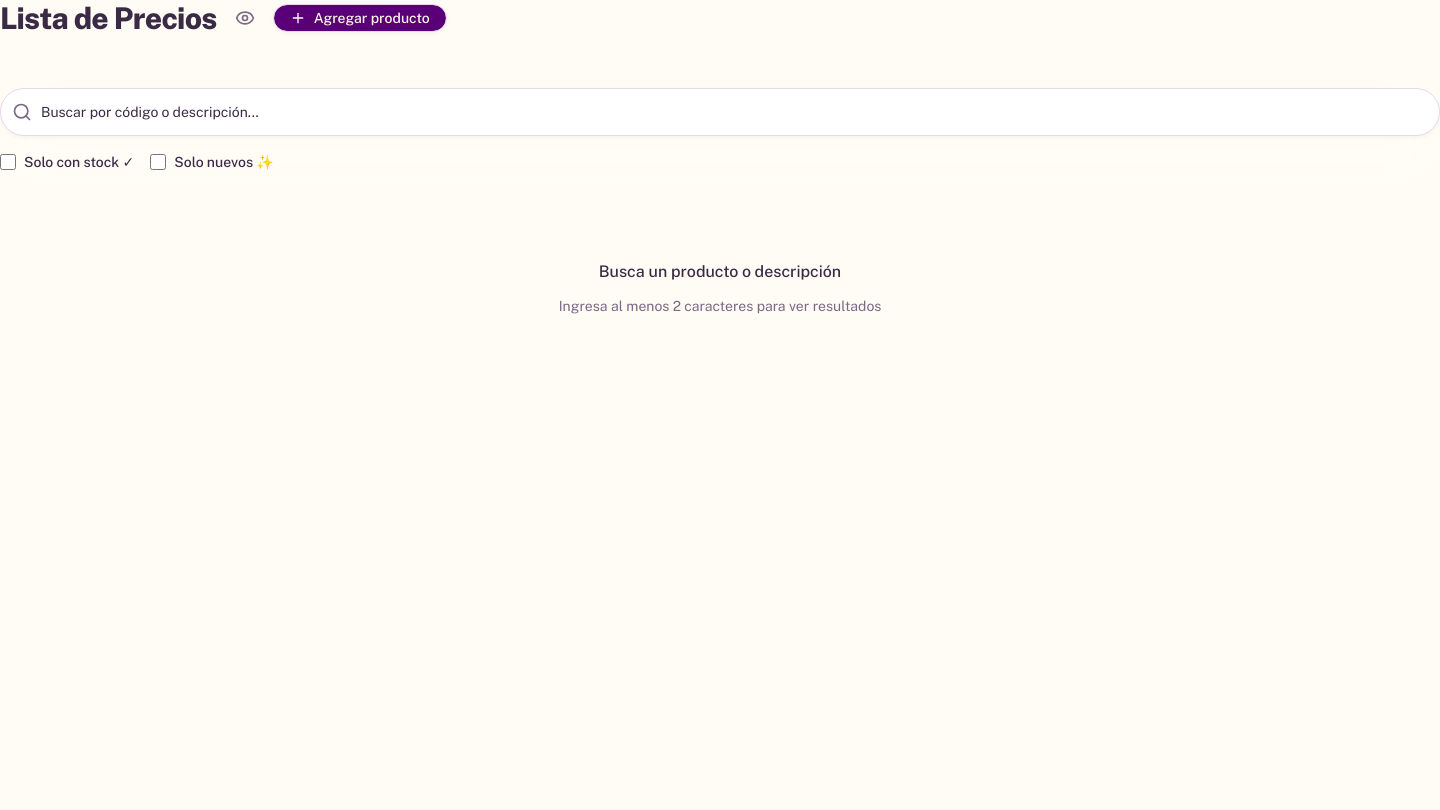
PreciosClient — dialogo Nuevo producto › minimo deshabilitado sin precio mayor
Click the button "Agregar producto". click: (360, 18)
box: [273,4,447,32]
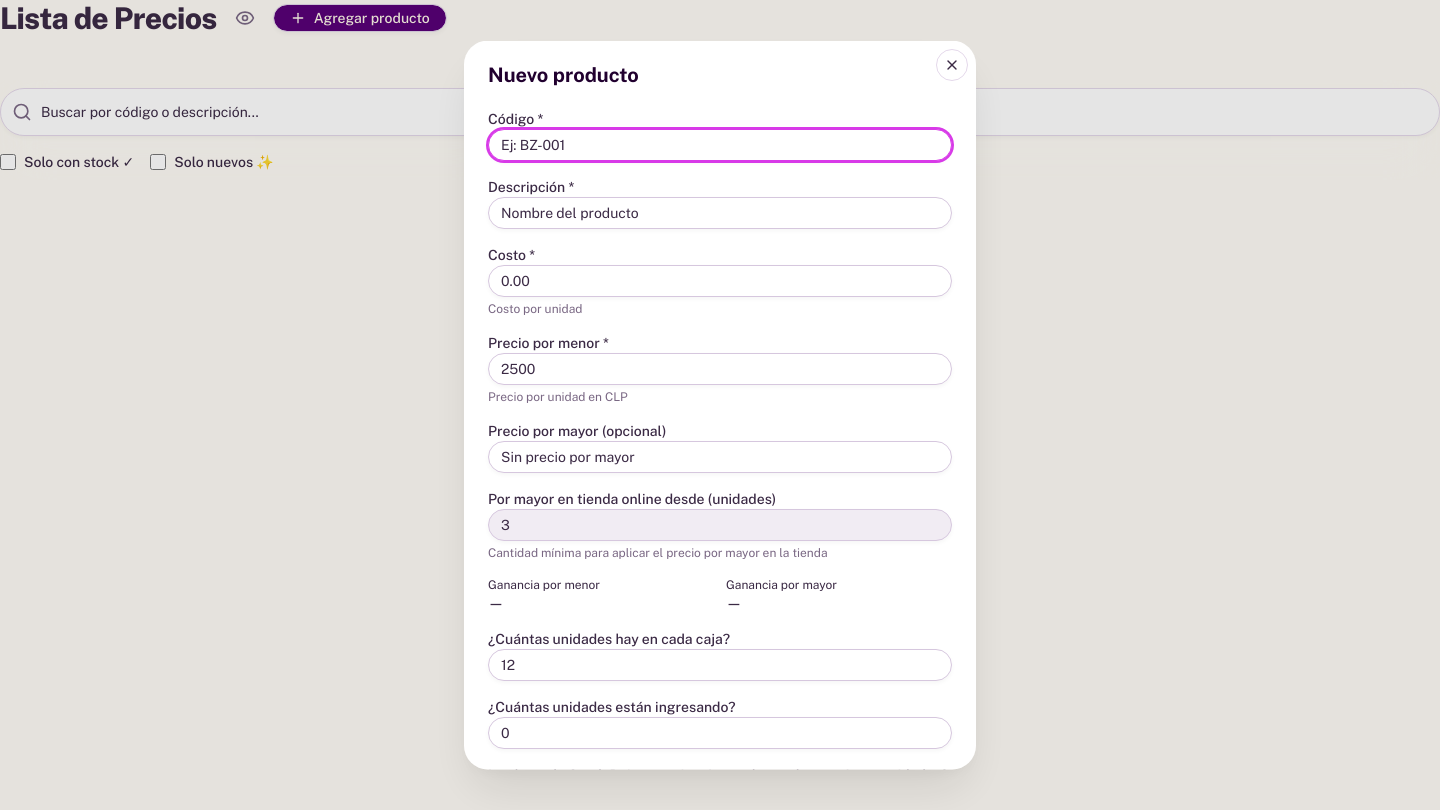
Result: the number field with test id "crear-minimo-mayor" is disabled at [488,508,952,540]
